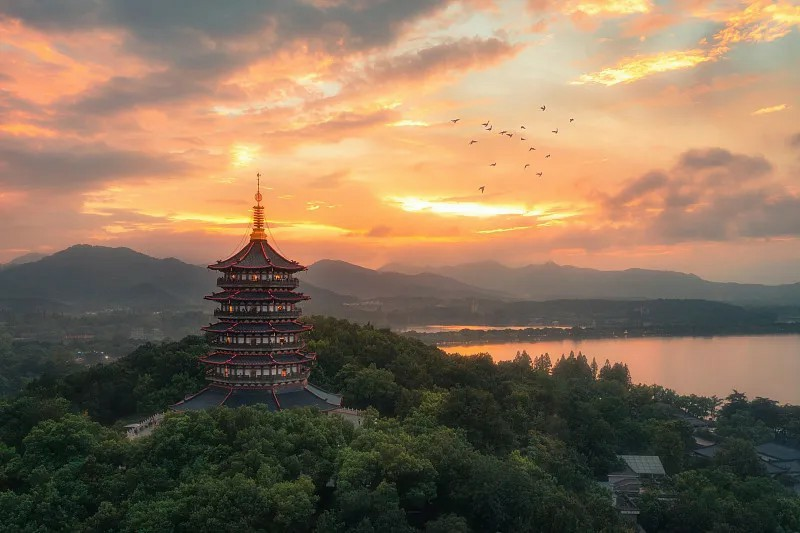Leifeng: (168, 175, 344, 436)
